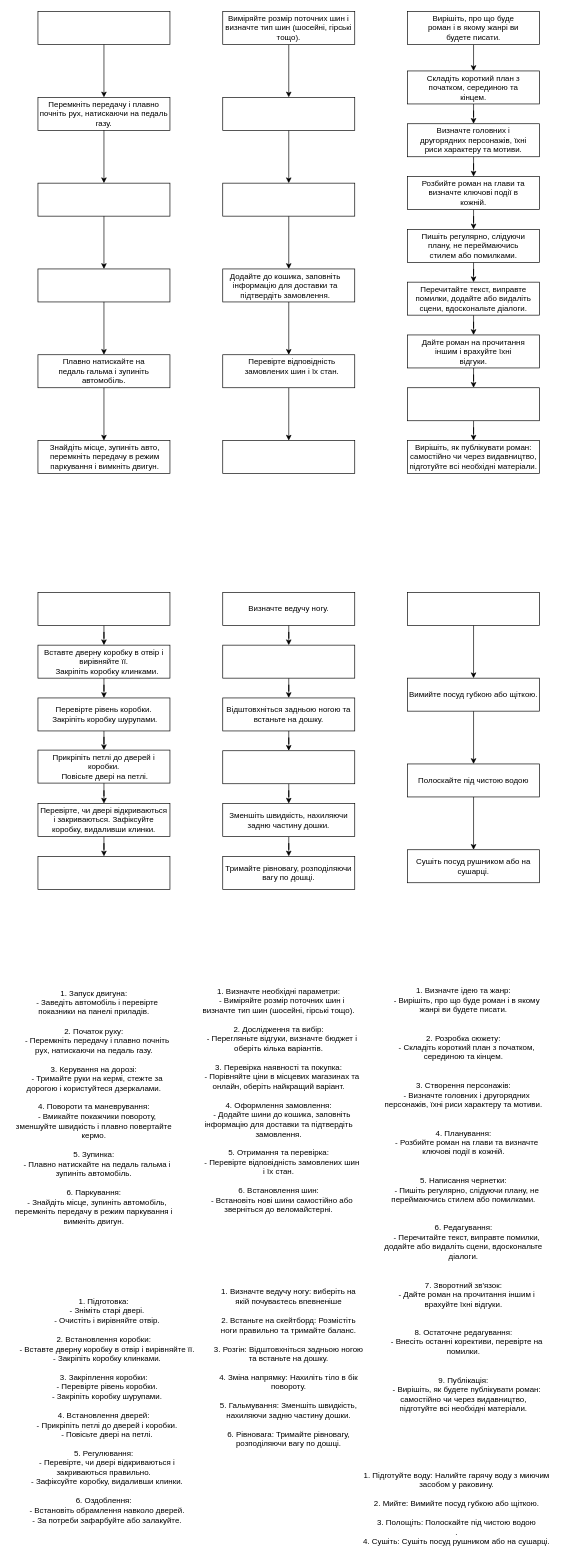
The diagram is 568 pixels wide and 1566 high, and some of its shapes have lost their labels. Here are the shapes that lost their labels. From the top down, the centre of each, then its label:
At (103,28): "Заведіть автомобіль і перевірте показники на панелі приладів.".
At (288,113): "Перегляньте відгуки, визначте бюджет і оберіть кілька варіантів.".
At (103,199): "Тримайте руки на кермі, стежте за дорогою і користуйтеся дзеркалами.".
At (288,199): "Порівняйте ціни в місцевих магазинах та онлайн, оберіть найкращий варіант.".
At (103,285): "Вмикайте покажчики повороту, зменшуйте швидкість і плавно повертайте кермо.".
At (473,404): "Внесіть останні корективи, перевірте на помилки.".
At (288,457): "Встановіть нові шини самостійно або зверніться до веломайстерні.".
At (103,608): "Зніміть старі двері. Очистіть і вирівняйте отвір.".
At (473,608): "Налийте гарячу воду з миючим засобом у раковину.".
At (288,661): "Розмістіть ноги правильно та тримайте баланс.".
At (288,767): "Нахиліть тіло в бік повороту".
At (103,872): "Встановіть обрамлення навколо дверей.За потреби зафарбуйте або залакуйте.".
